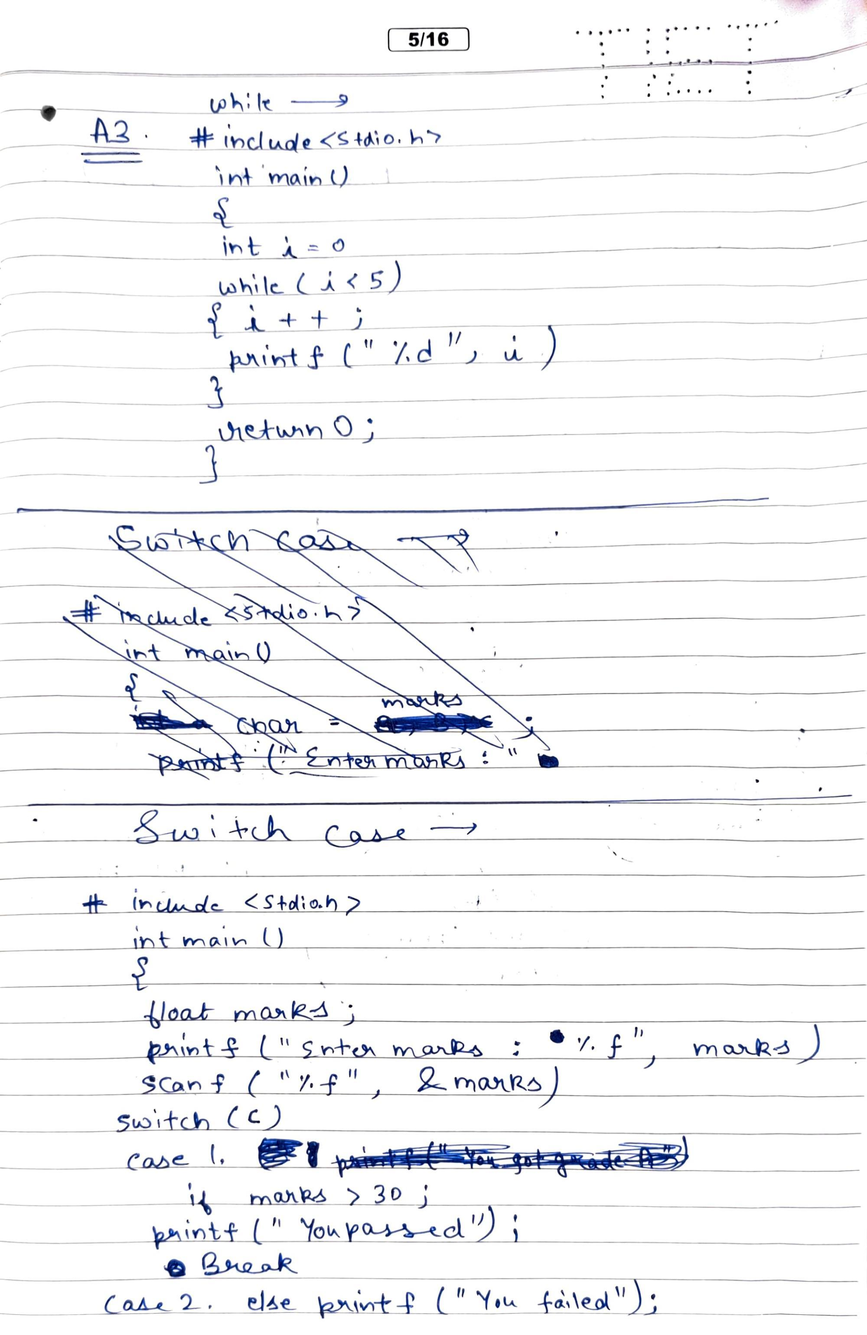cuttings: (63, 523, 567, 780), (334, 1133, 691, 1178), (257, 1138, 301, 1170), (164, 1257, 187, 1279), (306, 1141, 320, 1168), (547, 1028, 566, 1044)
